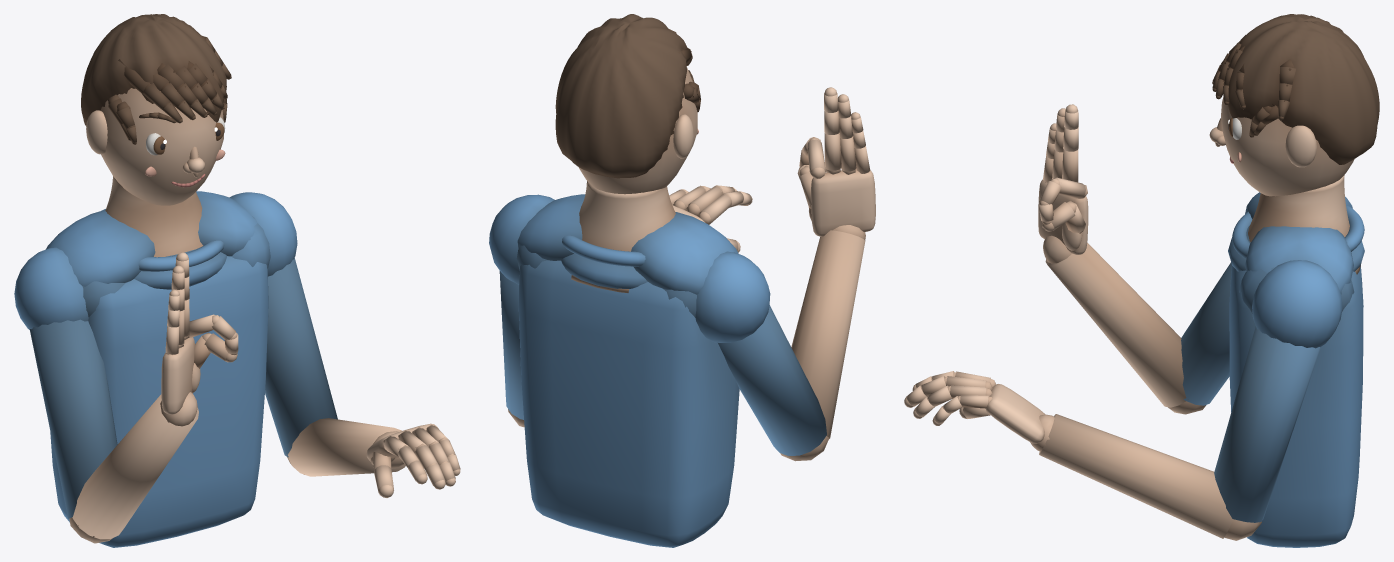
3 renders of one model, left to right at view 1: azimuth 30°, elevation 25°; view 2: azimuth 150°, elevation 25°; view 3: azimuth 270°, elevation 25°, orthographic.
Visible parts, largest first — view 1: LSC_Body; view 2: LSC_Body; view 3: LSC_Body.
Boxes of the visible parts, bbox=[...] form: LSC_Body: bbox=[14, 14, 460, 547]; LSC_Body: bbox=[489, 14, 875, 547]; LSC_Body: bbox=[904, 14, 1379, 547].
Size of the model in its own units: 0.4304 by 0.713 by 0.6104.
